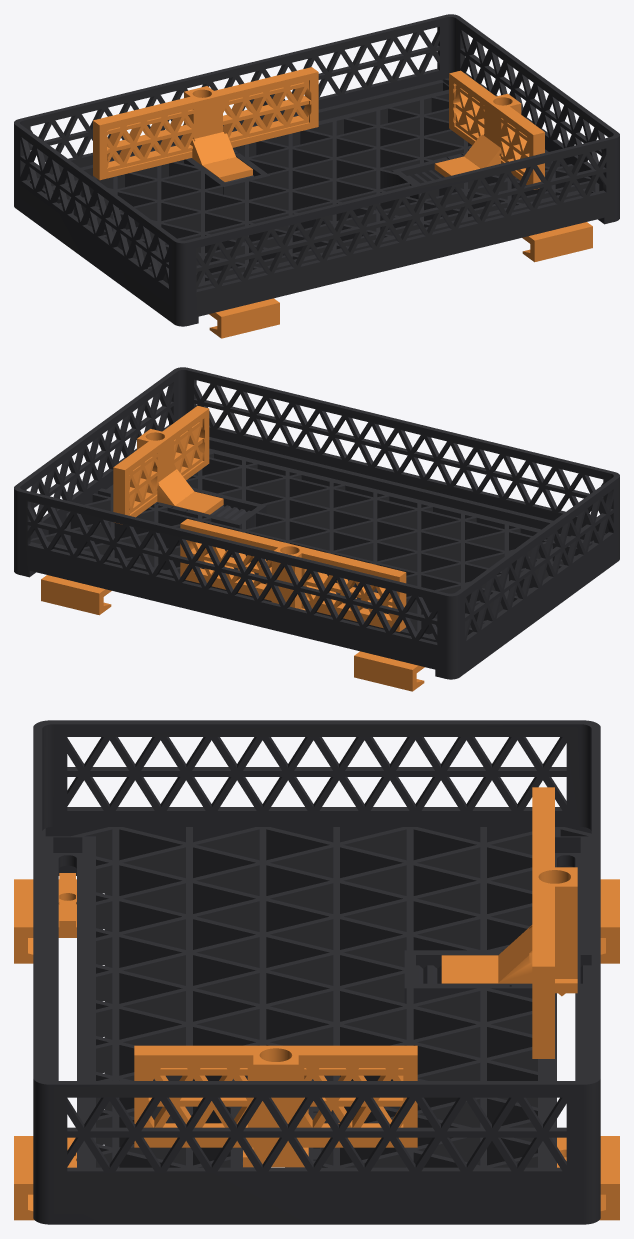
The model's file is bandeja-bateria-universal.glb.
3 views of the same model, one above another, from view 1: azimuth 30°, elevation 25°; view 2: azimuth 150°, elevation 25°; view 3: azimuth 270°, elevation 25° (orthographic). The views are drawn at different scales.
Parts seen in each view (by area): view 1: bandeja, mordazas, ganchos; view 2: bandeja, mordazas, ganchos; view 3: bandeja, mordazas, ganchos.
Boxes of the visible parts, x1=… form: bandeja: x1=14, y1=14, x2=619, y2=326; mordazas: x1=93, y1=67, x2=544, y2=189; ganchos: x1=209, y1=222, x2=592, y2=338; bandeja: x1=14, y1=367, x2=619, y2=679; mordazas: x1=113, y1=405, x2=406, y2=631; ganchos: x1=41, y1=575, x2=424, y2=691; bandeja: x1=33, y1=720, x2=600, y2=1224; mordazas: x1=134, y1=787, x2=577, y2=1167; ganchos: x1=14, y1=873, x2=619, y2=1220.
Bounding box in the file's own units: 0.3044 × 0.0645 × 0.214.
